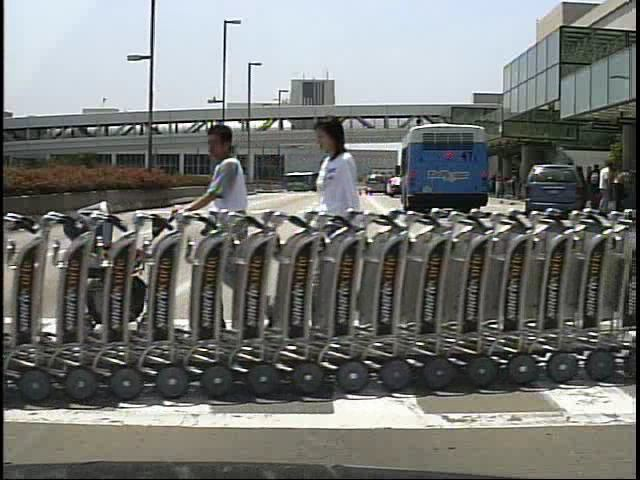person: (181, 121, 265, 346), (308, 116, 379, 349), (596, 161, 616, 210), (589, 163, 604, 213)
